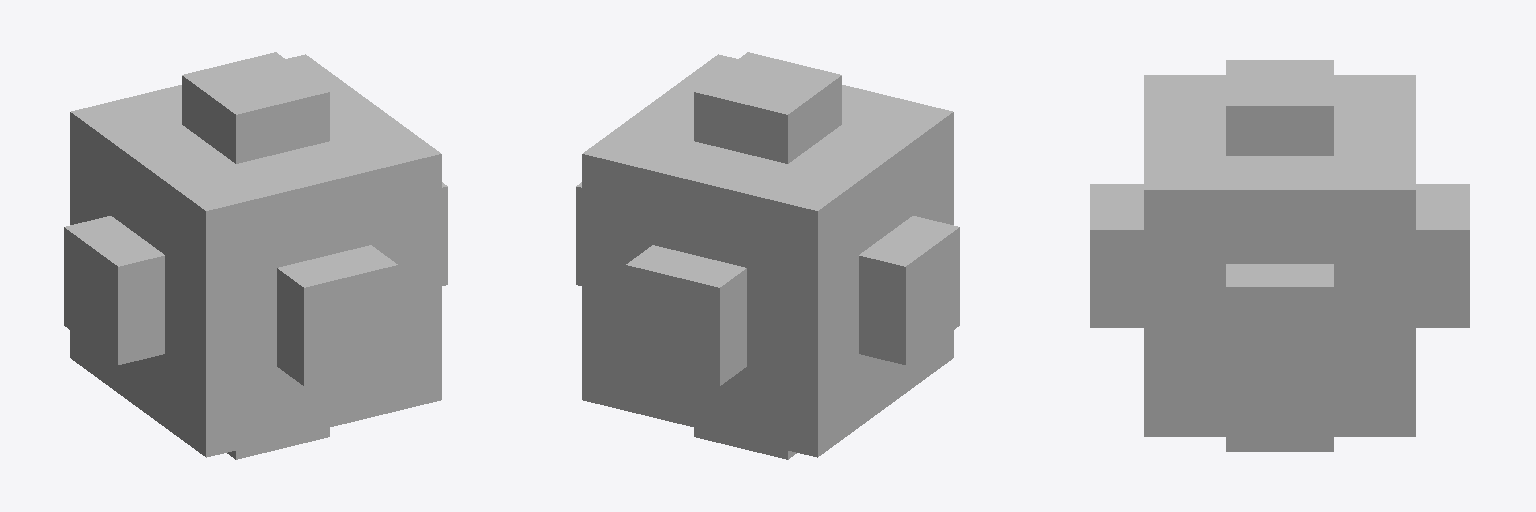
Rendered from PolyAndroid.obj.
The picture shows the model from 3 angles: view 1: azimuth 30°, elevation 25°; view 2: azimuth 150°, elevation 25°; view 3: azimuth 270°, elevation 25°; orthographic projection.
Parts seen in each view (by area): view 1: node_id3_mesh_id4; view 2: node_id3_mesh_id4; view 3: node_id3_mesh_id4.
Part boxes in pixels (x1,y1,x2,y2): node_id3_mesh_id4: (64, 52, 447, 459); node_id3_mesh_id4: (576, 52, 959, 459); node_id3_mesh_id4: (1090, 60, 1469, 451).
Size of the model in its own units: 0.512 by 0.512 by 0.512.